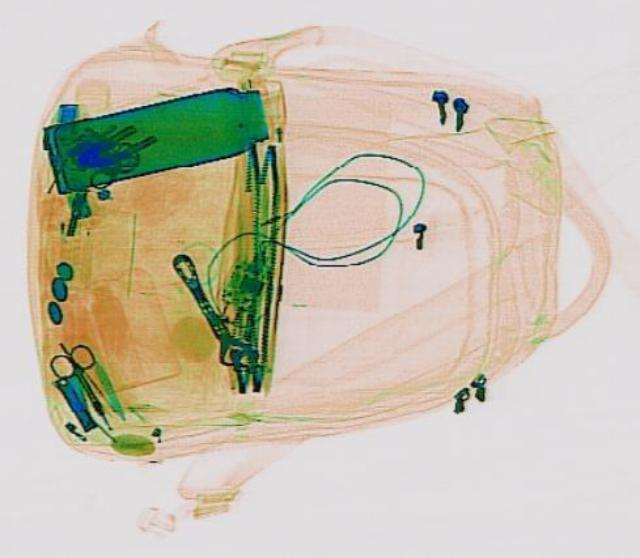Scissors: (41, 339, 127, 422)
